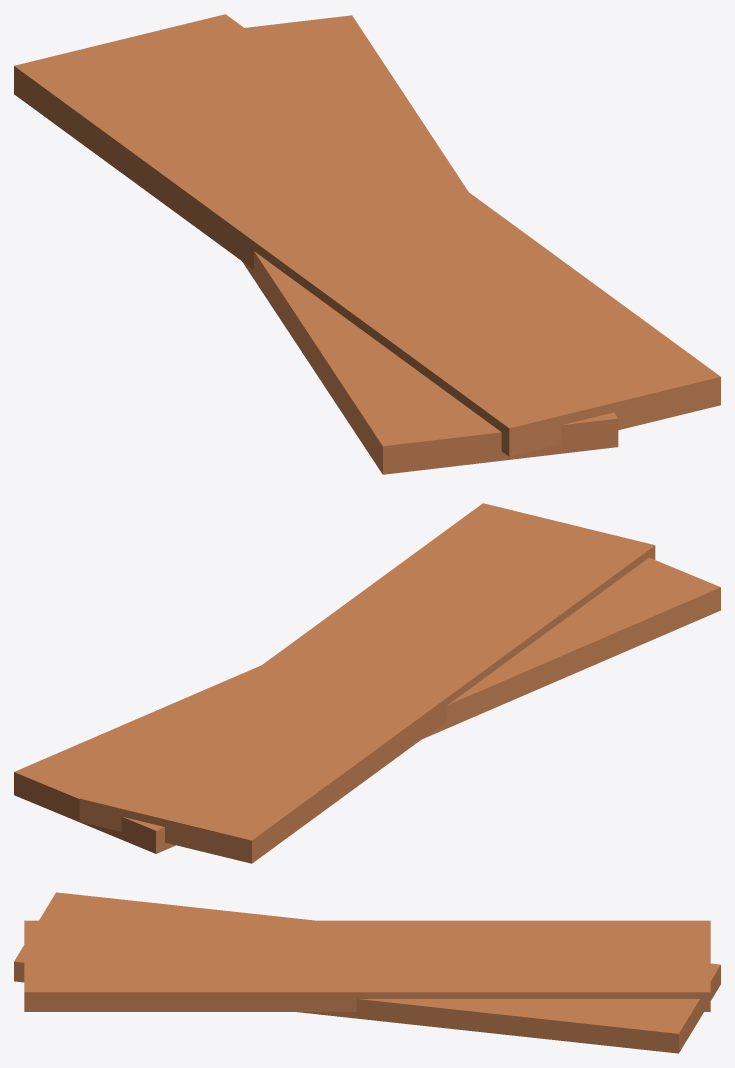
The model's file is planks.fbx.
3 renders of one model, top to bottom at view 1: azimuth 30°, elevation 25°; view 2: azimuth 150°, elevation 25°; view 3: azimuth 270°, elevation 25°, orthographic. The views are drawn at different scales.
Parts seen in each view (by area): view 1: Cube, Cube.001; view 2: Cube, Cube.001; view 3: Cube, Cube.001.
Part boxes in pixels (<box>): Cube: <box>14,14,720,456</box>; Cube.001: <box>242,15,618,474</box>; Cube: <box>79,503,655,863</box>; Cube.001: <box>14,557,720,853</box>; Cube: <box>24,920,710,1011</box>; Cube.001: <box>14,892,720,1053</box>.
Bounding box in the file's own units: 241 × 20.86 × 508.
